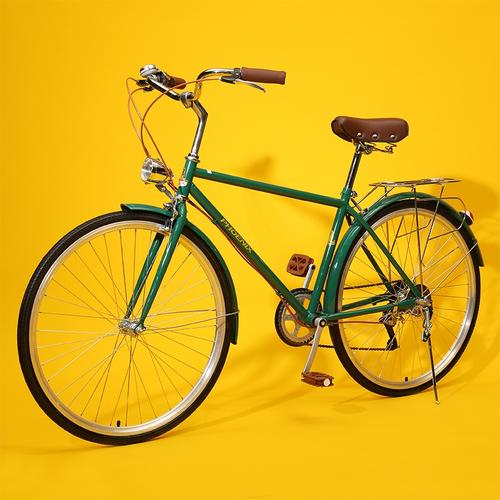单车: (14, 37, 488, 458)
